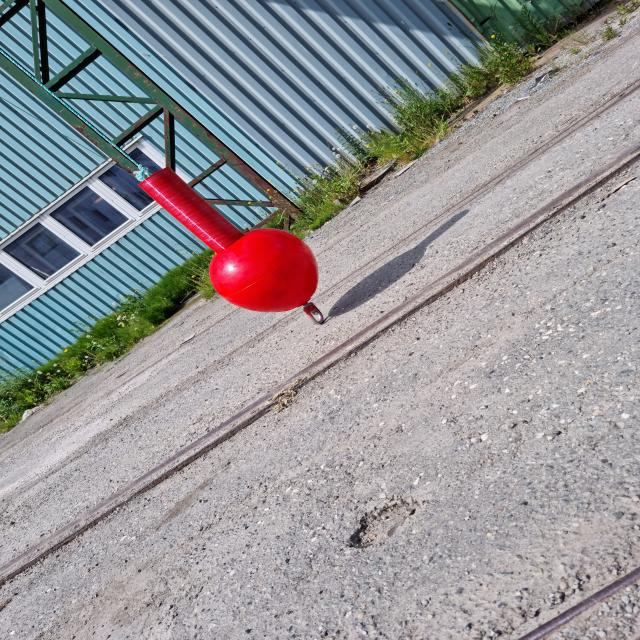red: (136, 166, 318, 312)
